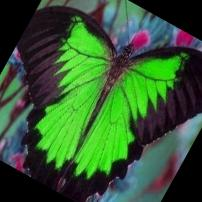butterfly: (16, 6, 202, 202)
